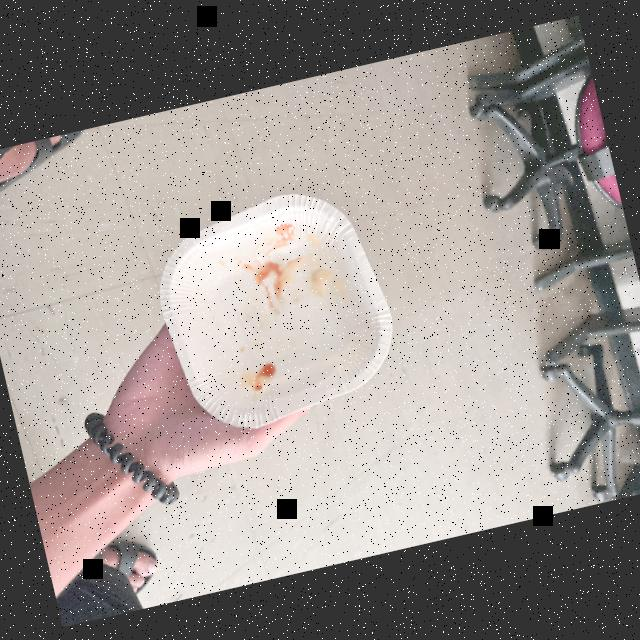cardboard_bowl: (143, 171, 412, 448)
